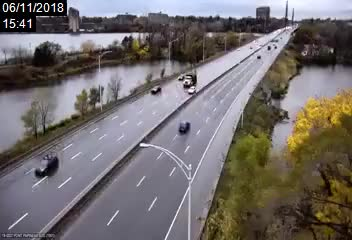personal_car: (33, 153, 59, 177), (175, 118, 192, 133), (150, 85, 161, 94), (187, 86, 196, 94), (176, 72, 184, 80)
truck: (182, 72, 197, 87)
